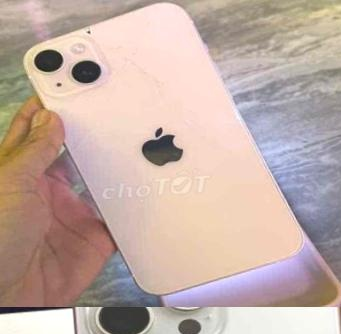physical_damage: (108, 42, 177, 89), (119, 169, 204, 205), (121, 257, 188, 296), (198, 231, 250, 274), (177, 245, 224, 289), (242, 225, 298, 261), (170, 114, 233, 143), (138, 220, 187, 256), (213, 134, 273, 163), (97, 144, 147, 174), (129, 196, 183, 223), (83, 120, 135, 147), (148, 86, 194, 116), (102, 91, 145, 118), (132, 6, 165, 37), (81, 25, 118, 50), (67, 141, 93, 165)
